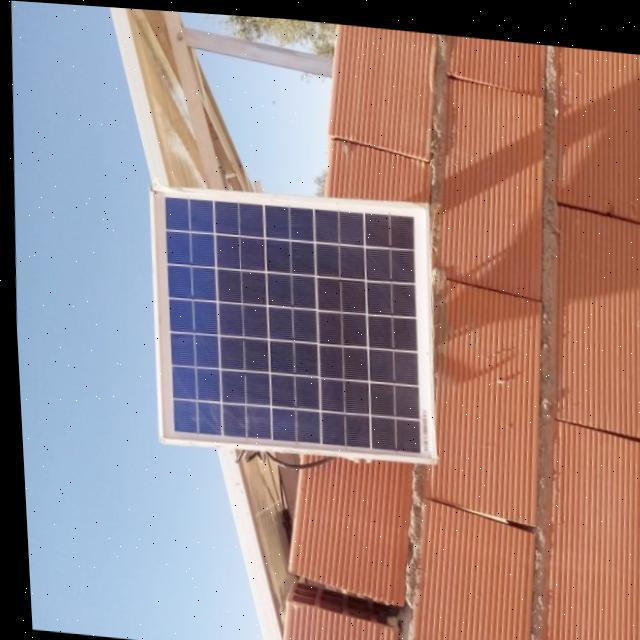Normal Solar Panel: (140, 174, 438, 462)
